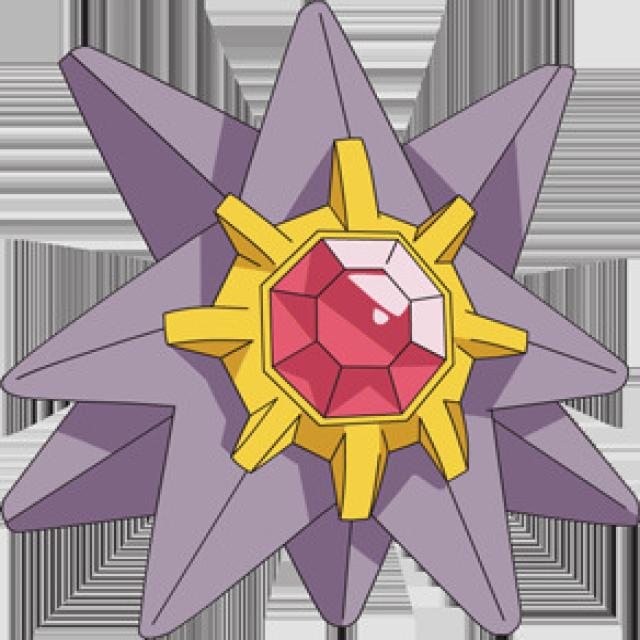Starmie: (57, 47, 580, 618)
